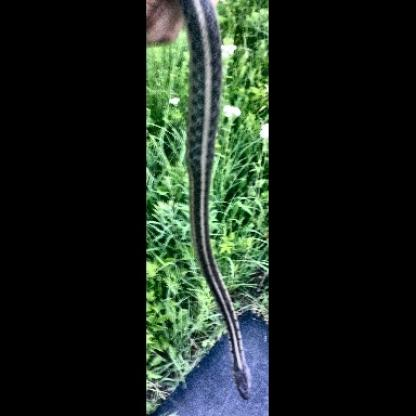Snake: (168, 4, 259, 402)
